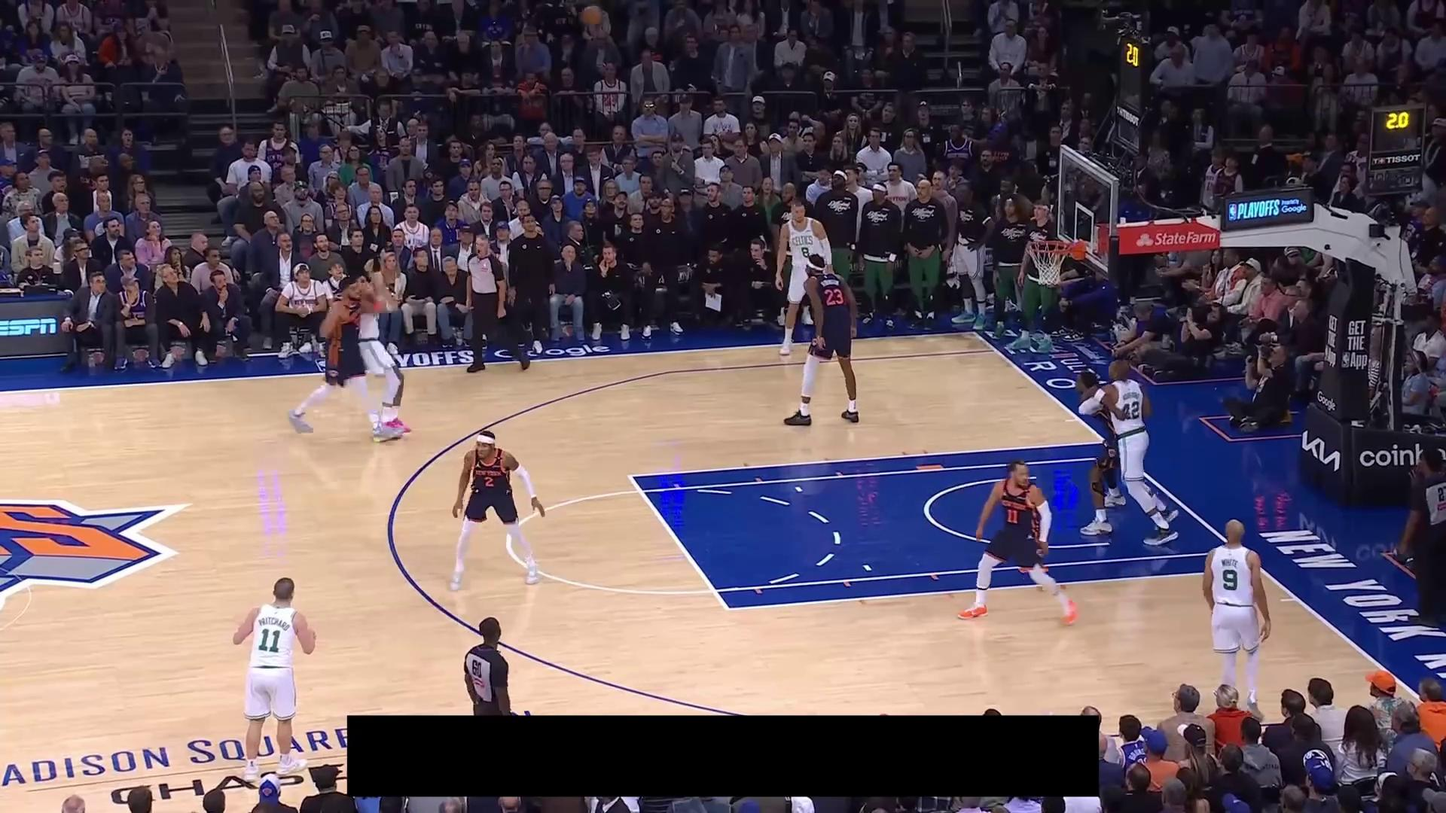ball: (580, 4, 603, 26)
number: (258, 627, 282, 653), (1222, 568, 1238, 591), (824, 288, 844, 306), (1123, 400, 1140, 419), (1005, 507, 1020, 525), (484, 476, 495, 488), (801, 245, 810, 259)
player: (956, 455, 1079, 626), (1077, 358, 1181, 548), (288, 278, 404, 443), (232, 577, 316, 789), (447, 428, 548, 592), (1201, 517, 1274, 722), (782, 252, 861, 428), (350, 273, 412, 434), (774, 200, 833, 356), (1075, 371, 1127, 536)
referee: (1396, 446, 1446, 629), (465, 233, 530, 373), (463, 617, 517, 715)
rim: (1027, 239, 1072, 254)
